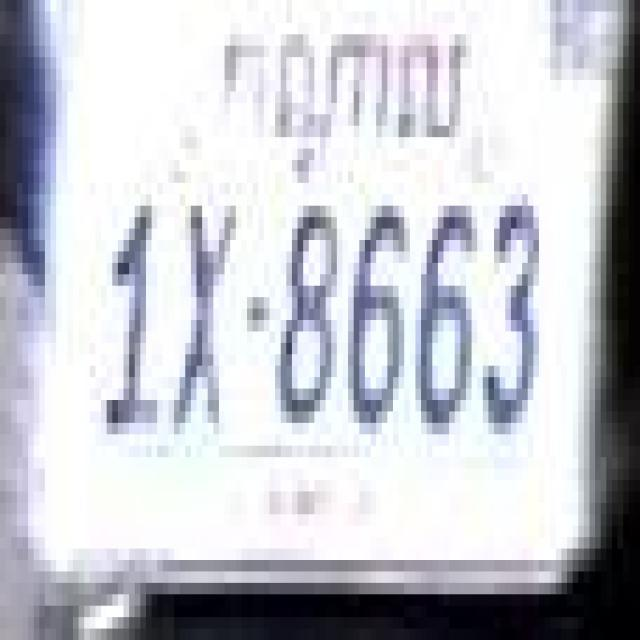Kandal: (225, 35, 468, 181)
